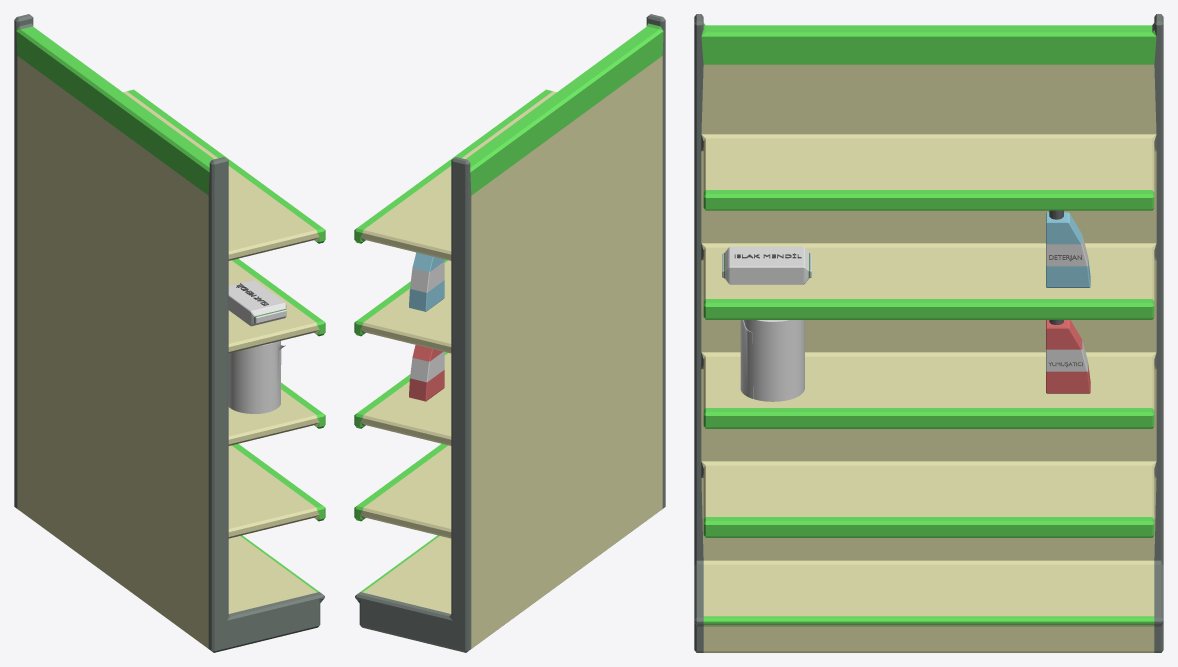
The model's file is E_Hijyen_c.fbx.
The picture shows the model from 3 angles, left to right: view 1: azimuth 30°, elevation 25°; view 2: azimuth 150°, elevation 25°; view 3: azimuth 270°, elevation 25°; orthographic projection. The views are drawn at different scales.
Parts seen in each view (by area): view 1: HijyenRafı, RuloKağıt, IslakMendil; view 2: HijyenRafı, Deterjan, Yumuşatıcı; view 3: HijyenRafı, RuloKağıt, IslakMendil, Deterjan, Yumuşatıcı.
Boxes of the visible parts, x1,y1,x2,y2 form: HijyenRafı: [14, 14, 325, 652]; RuloKağıt: [228, 341, 285, 413]; IslakMendil: [228, 280, 286, 326]; HijyenRafı: [354, 14, 665, 652]; Deterjan: [409, 252, 444, 311]; Yumuşatıcı: [409, 345, 444, 401]; HijyenRafı: [694, 14, 1163, 652]; RuloKağıt: [740, 320, 804, 401]; IslakMendil: [722, 246, 811, 284]; Deterjan: [1046, 210, 1090, 287]; Yumuşatıcı: [1046, 320, 1090, 393].
Size of the model in its own units: 64.28 by 256 by 188.
